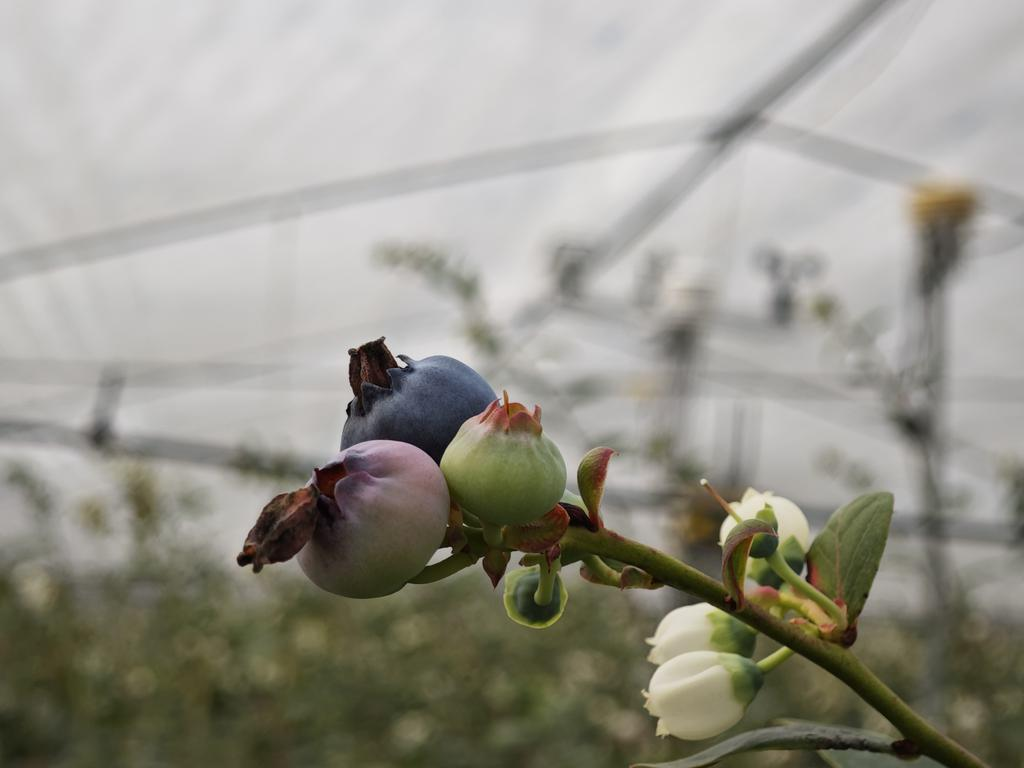RipeBlueBerry: (336, 353, 501, 455)
Semi-RipeBlueBerry: (292, 439, 454, 599)
UnripeBlueBerry: (442, 401, 570, 527)
